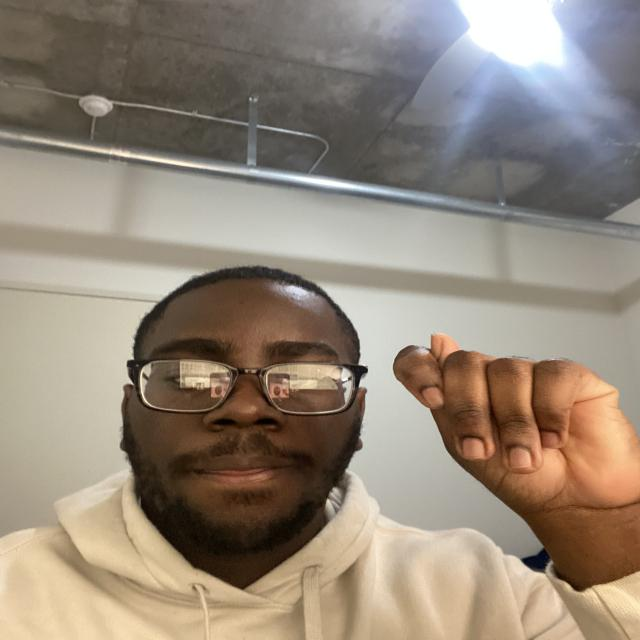Bathroom: (378, 287, 634, 524)
